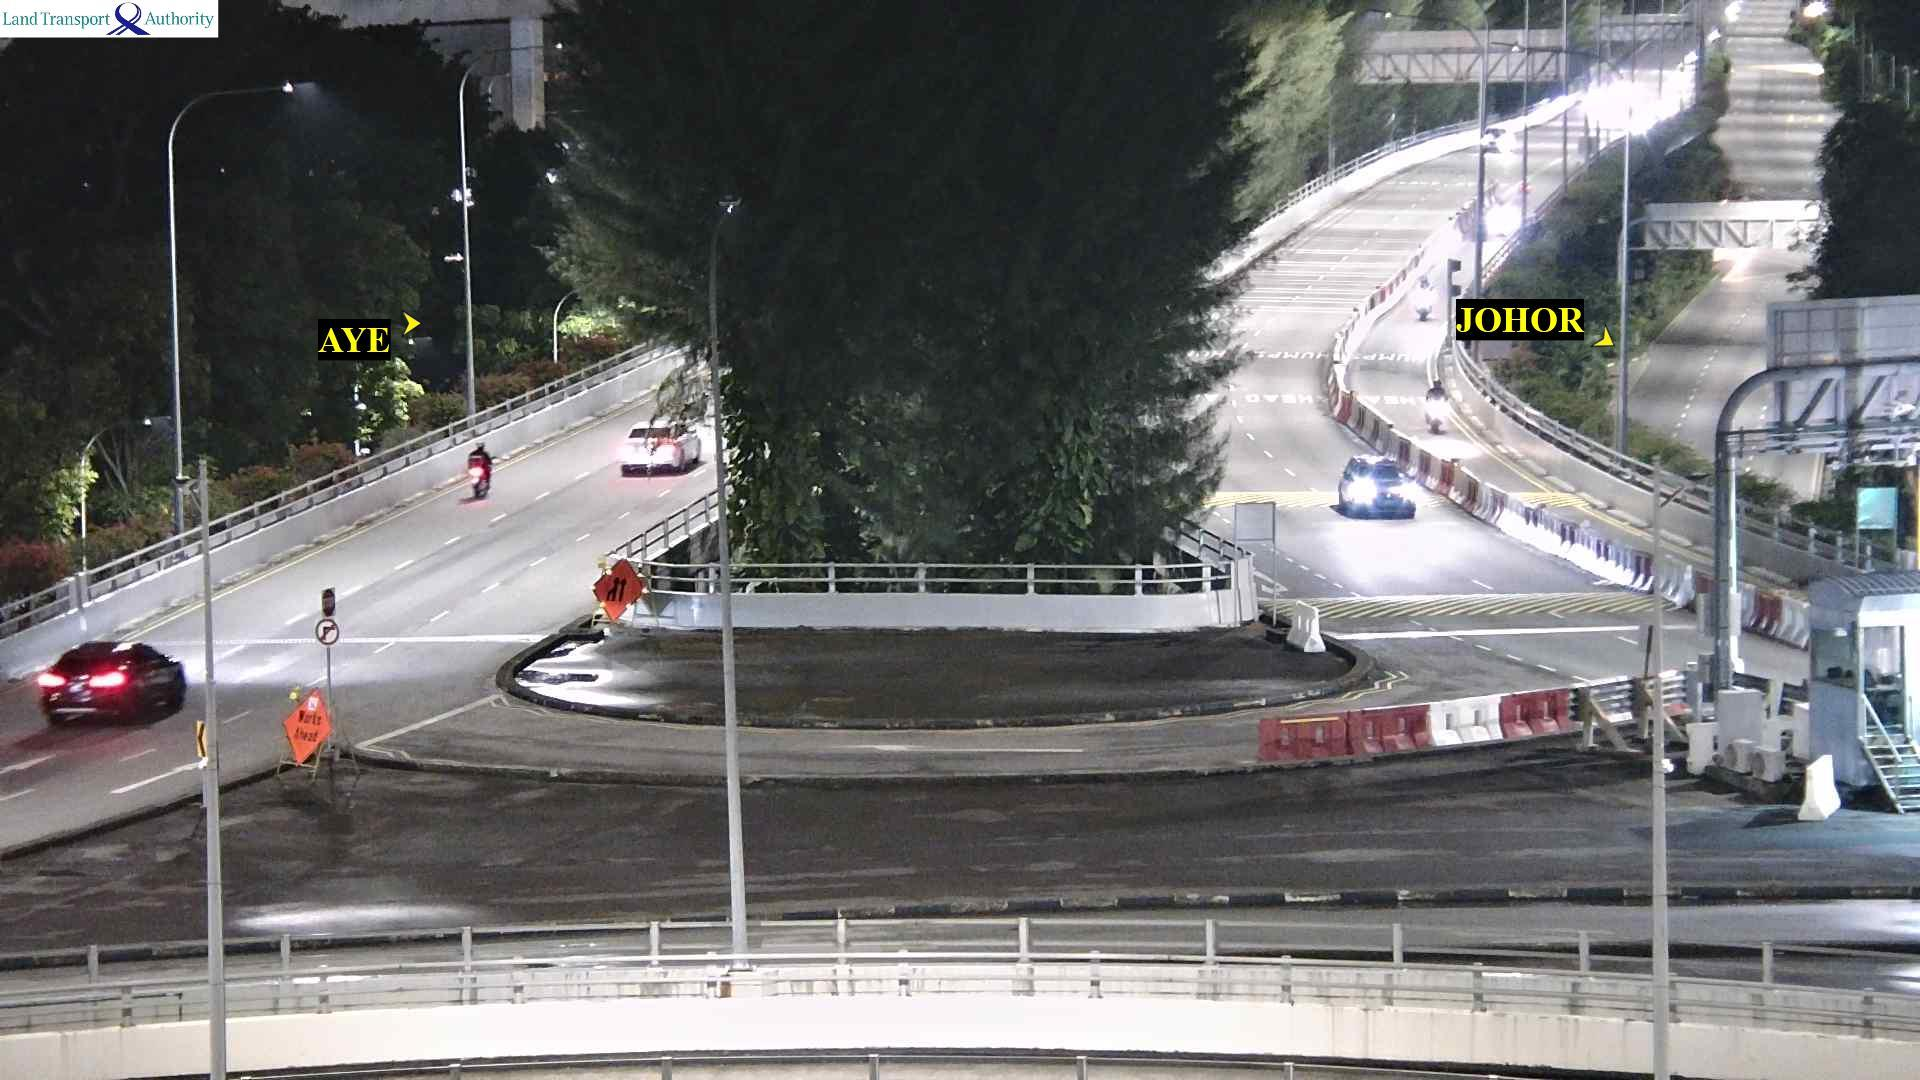vehicle-secondlink-johor: (1335, 453, 1412, 514), (1420, 378, 1451, 433), (1413, 272, 1434, 329), (1484, 127, 1517, 156)
vehicle-secondlink-singapore: (42, 637, 180, 726), (618, 422, 697, 479), (462, 437, 498, 499)
